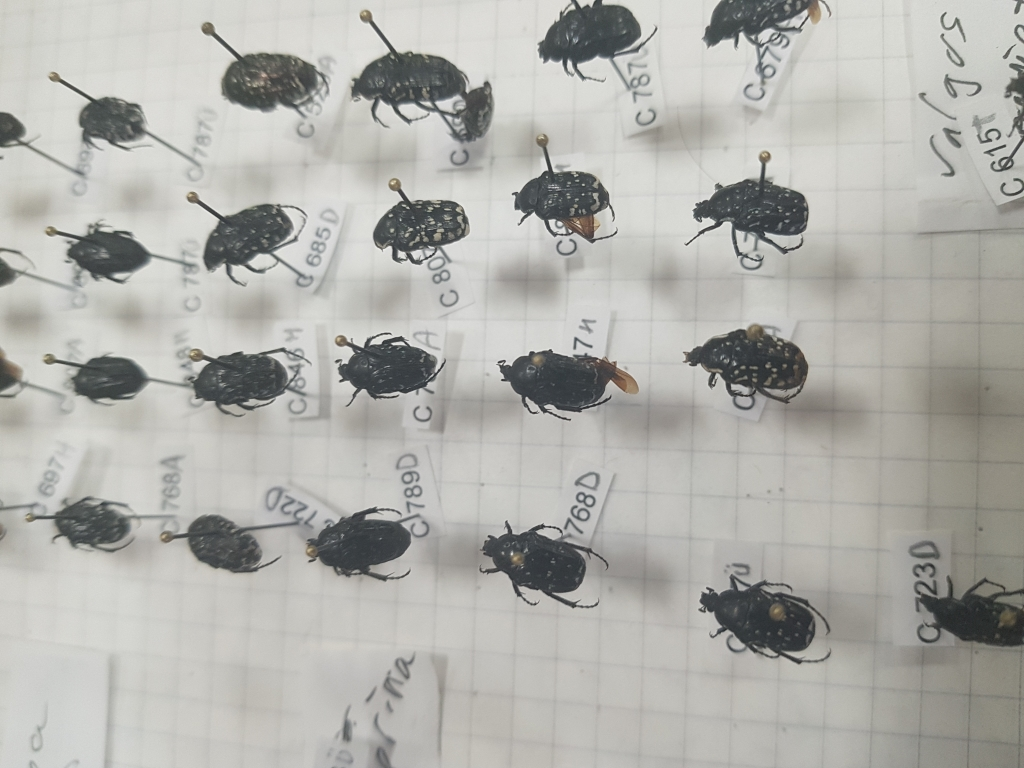Oxythyrea_albopicta: (682, 315, 821, 425), (680, 172, 813, 267), (368, 197, 475, 264)
